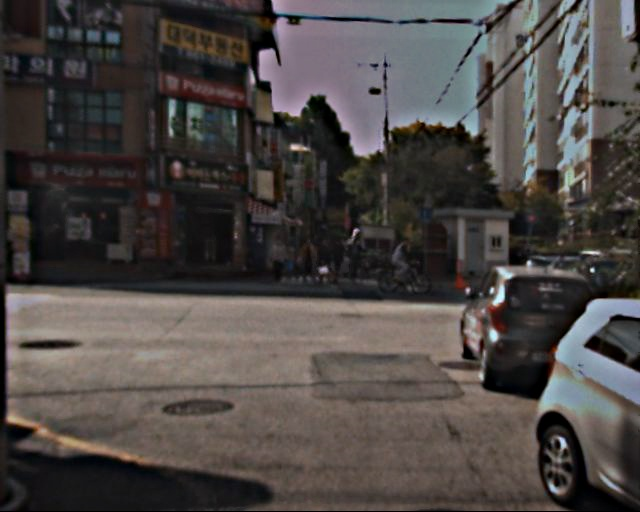person: (315, 231, 337, 285), (391, 238, 412, 288), (268, 236, 289, 286), (300, 237, 318, 282), (328, 237, 346, 281), (347, 239, 364, 281)
